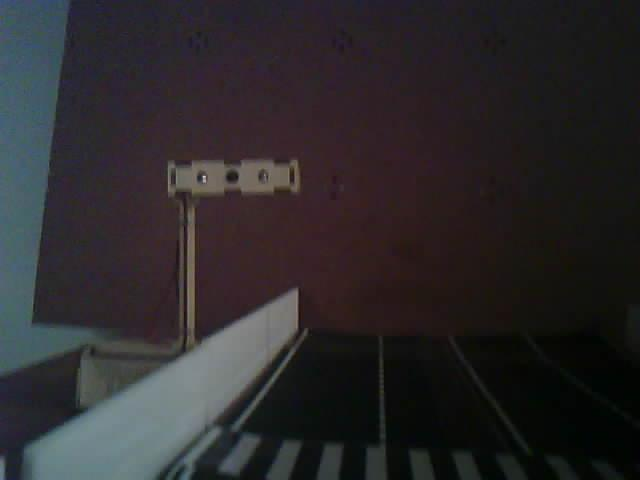crosswalk: (146, 409, 640, 480)
no: (132, 141, 349, 229)
